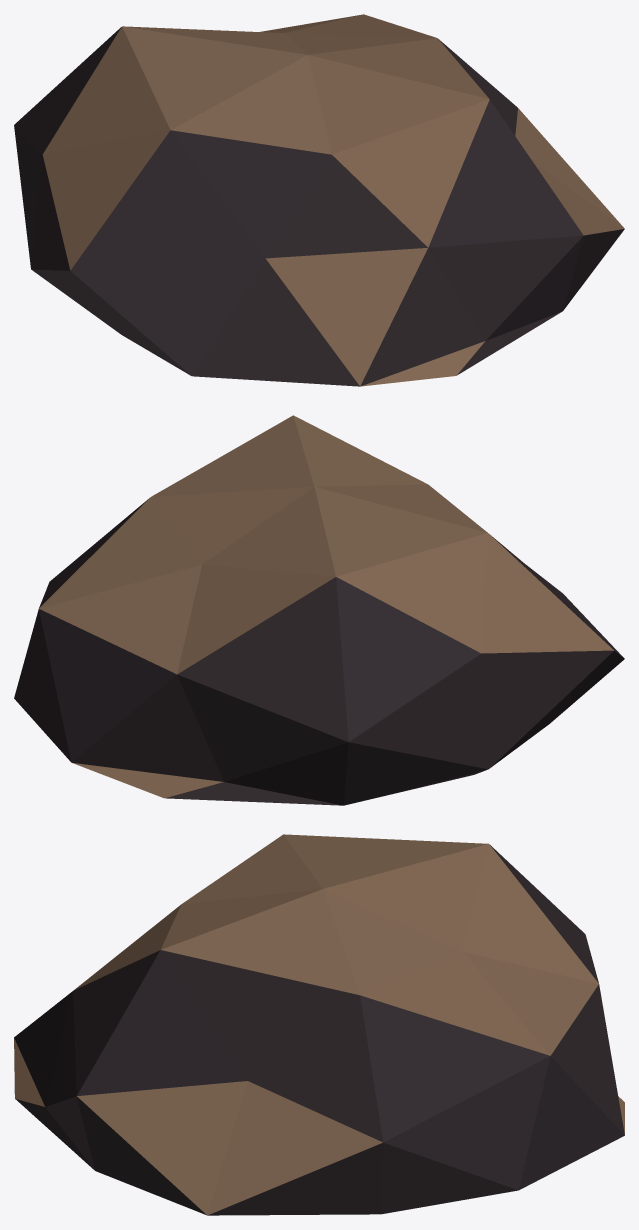
Rendered from boulder_s3.glb.
3 views of the same model, one above another, from view 1: azimuth 30°, elevation 25°; view 2: azimuth 150°, elevation 25°; view 3: azimuth 270°, elevation 25° (orthographic). The views are drawn at different scales.
Parts seen in each view (by area): view 1: body__M_Cliff_Licorice, body__M_Cliff_Crust_T0; view 2: body__M_Cliff_Licorice, body__M_Cliff_Crust_T0; view 3: body__M_Cliff_Licorice, body__M_Cliff_Crust_T0.
Boxes of the visible parts, x1,y1,x2,y2 form: body__M_Cliff_Licorice: (14,27,624,386); body__M_Cliff_Crust_T0: (42,14,624,386); body__M_Cliff_Licorice: (14,498,624,805); body__M_Cliff_Crust_T0: (39,415,613,798); body__M_Cliff_Licorice: (14,845,624,1215); body__M_Cliff_Crust_T0: (14,834,624,1215).
Bounding box in the file's own units: 0.3361 × 0.1262 × 0.3305.
